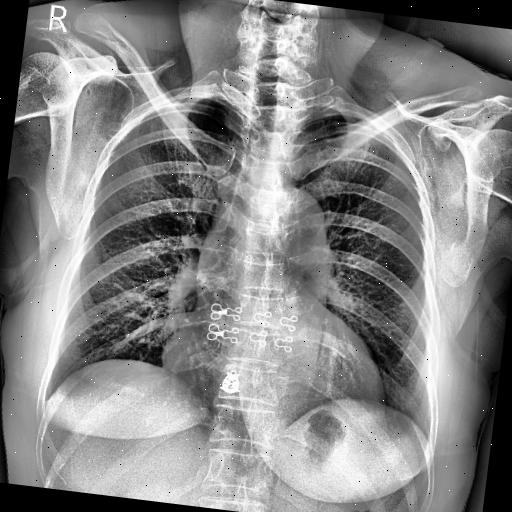0- Aortic enlargement: (247, 178, 337, 266), (250, 186, 338, 268), (270, 185, 334, 266)
3- Cardiomegaly: (156, 318, 392, 413), (156, 332, 391, 422), (157, 334, 385, 416)
